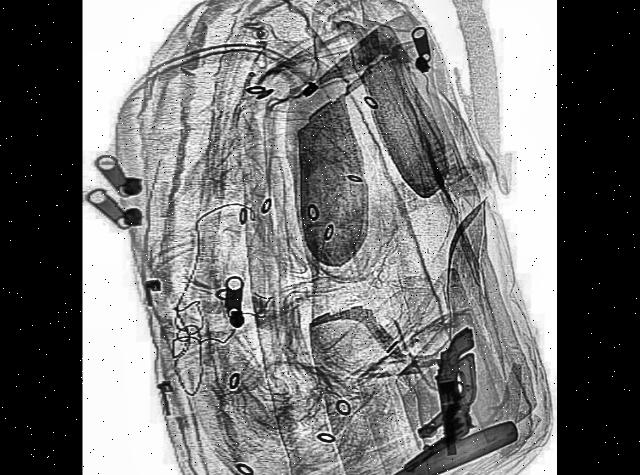Gun: (385, 350, 492, 475), (430, 326, 484, 458)
Knife: (272, 410, 518, 475)
